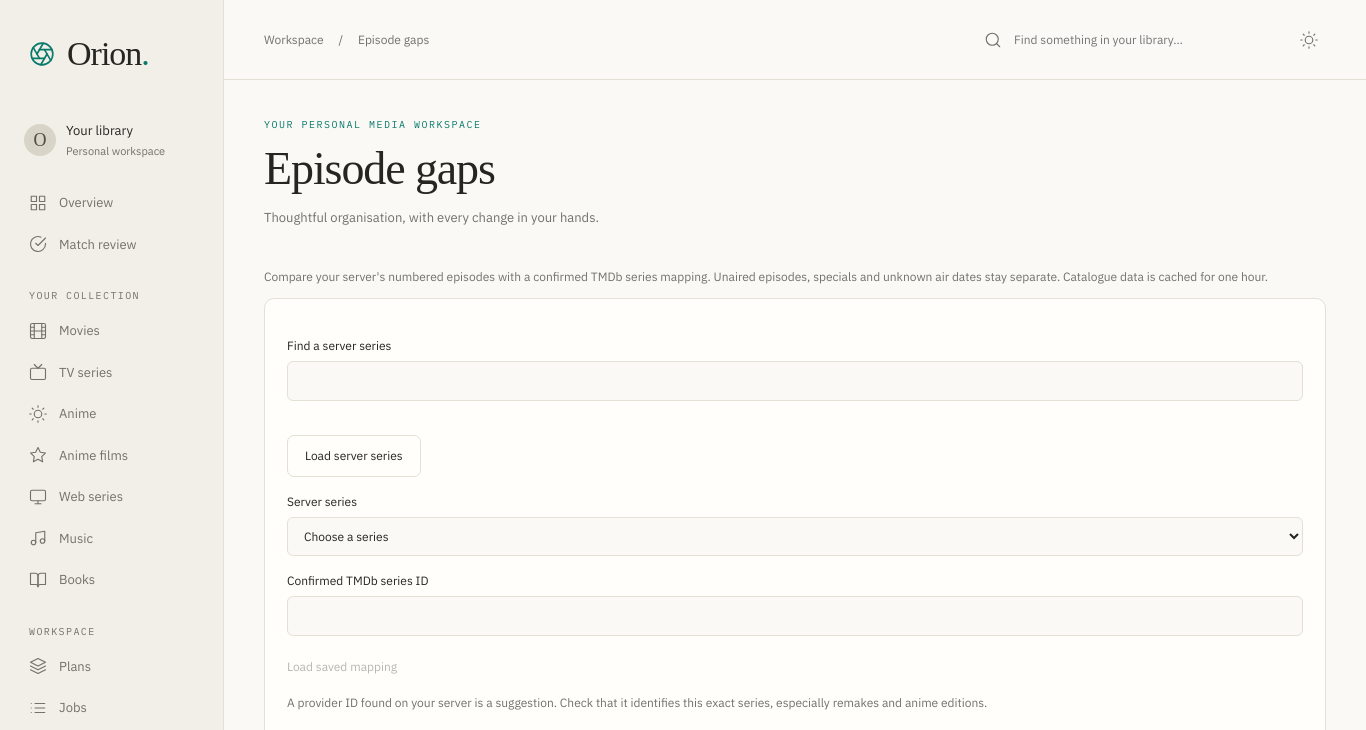
Test case: ready gap reports show actual episode title, air date and status
Click the button "Load server series" at (354, 456), box 287,435 -> 421,477
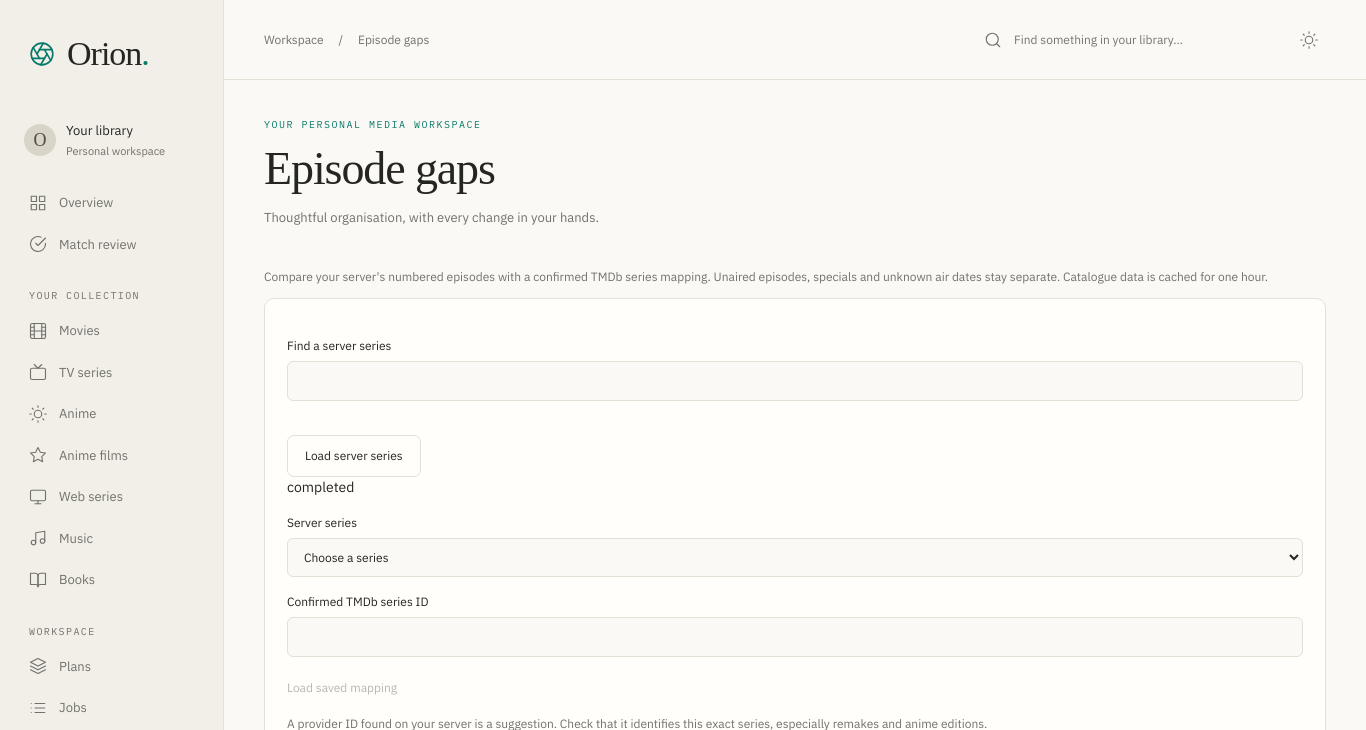
Select "Example show" in the dropdown labelled "Server series" at (795, 558), box 287,538 -> 1303,577
(page scrolled)
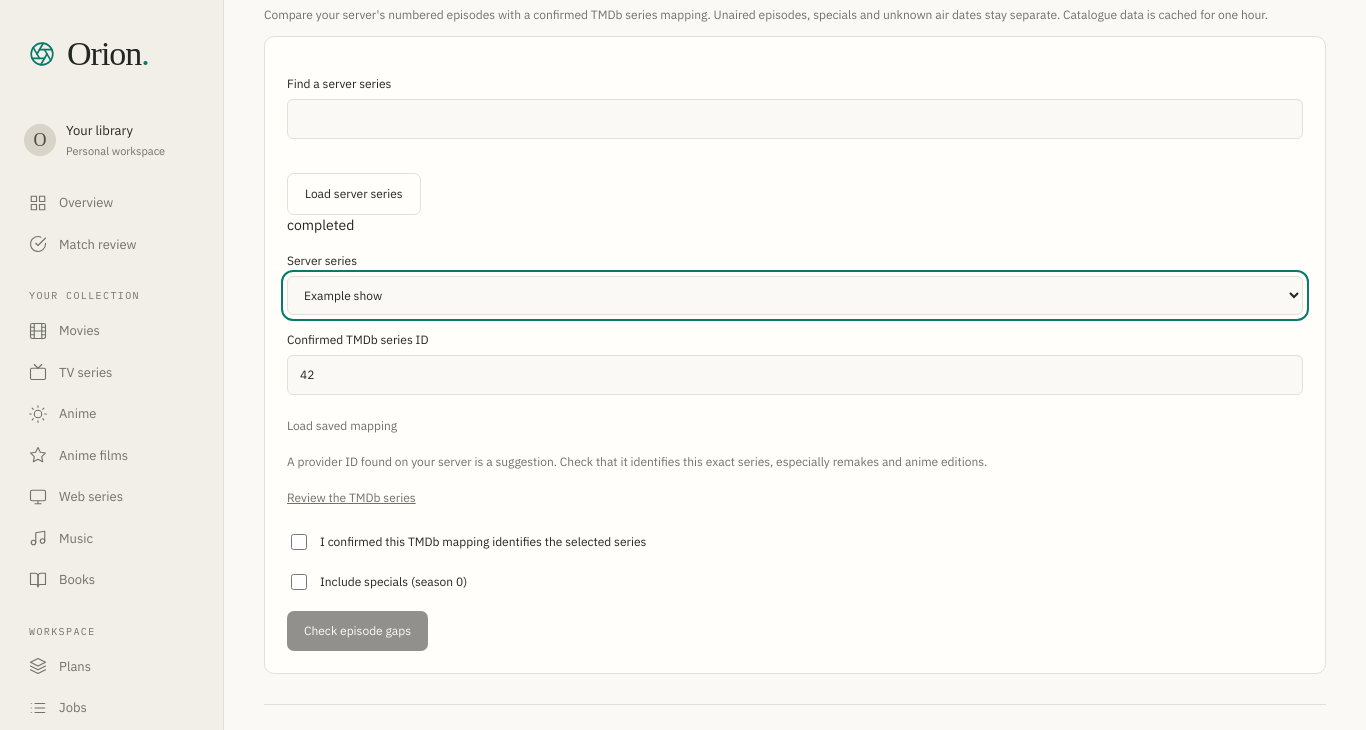
Click the checkbox labelled "I confirmed this TMDb mapping identifies the selected series" at (299, 542), box 291,534 -> 307,550
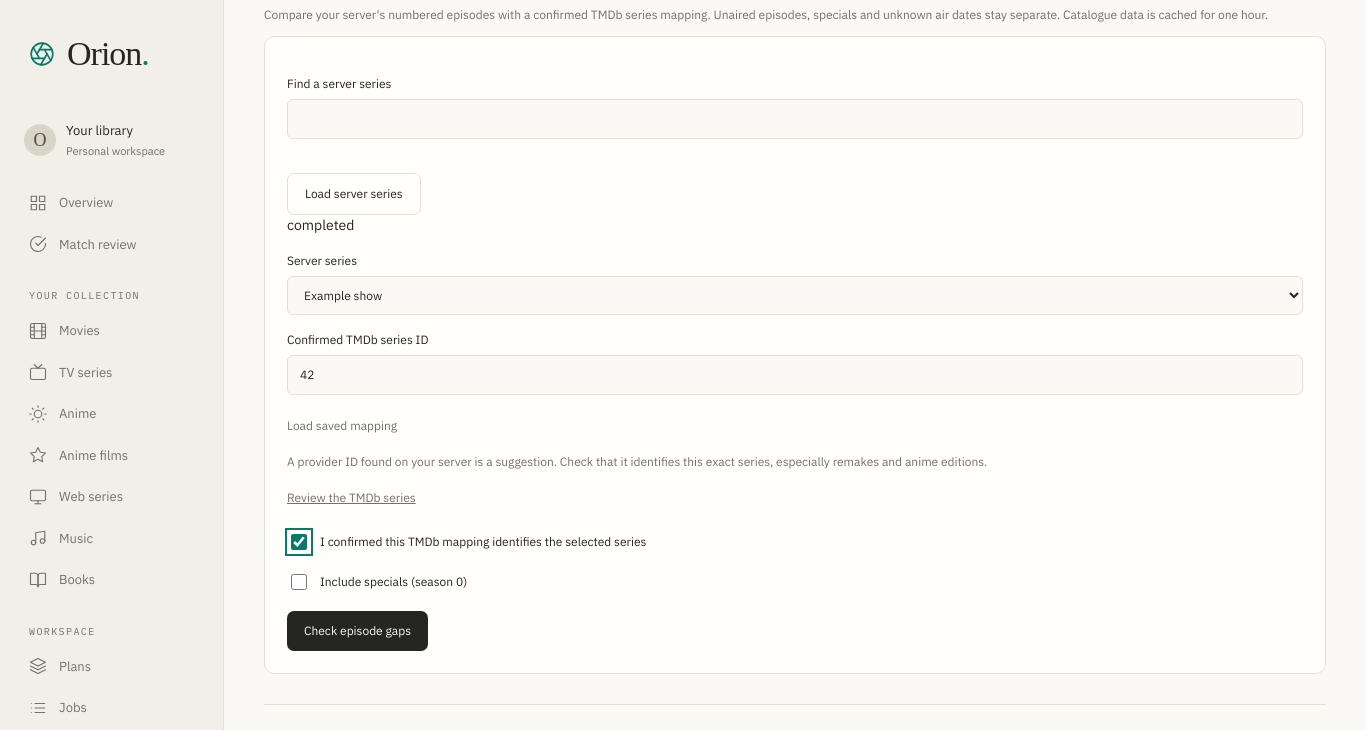
Click the button "Check episode gaps" at (358, 631), box 287,611 -> 428,651
(page scrolled)
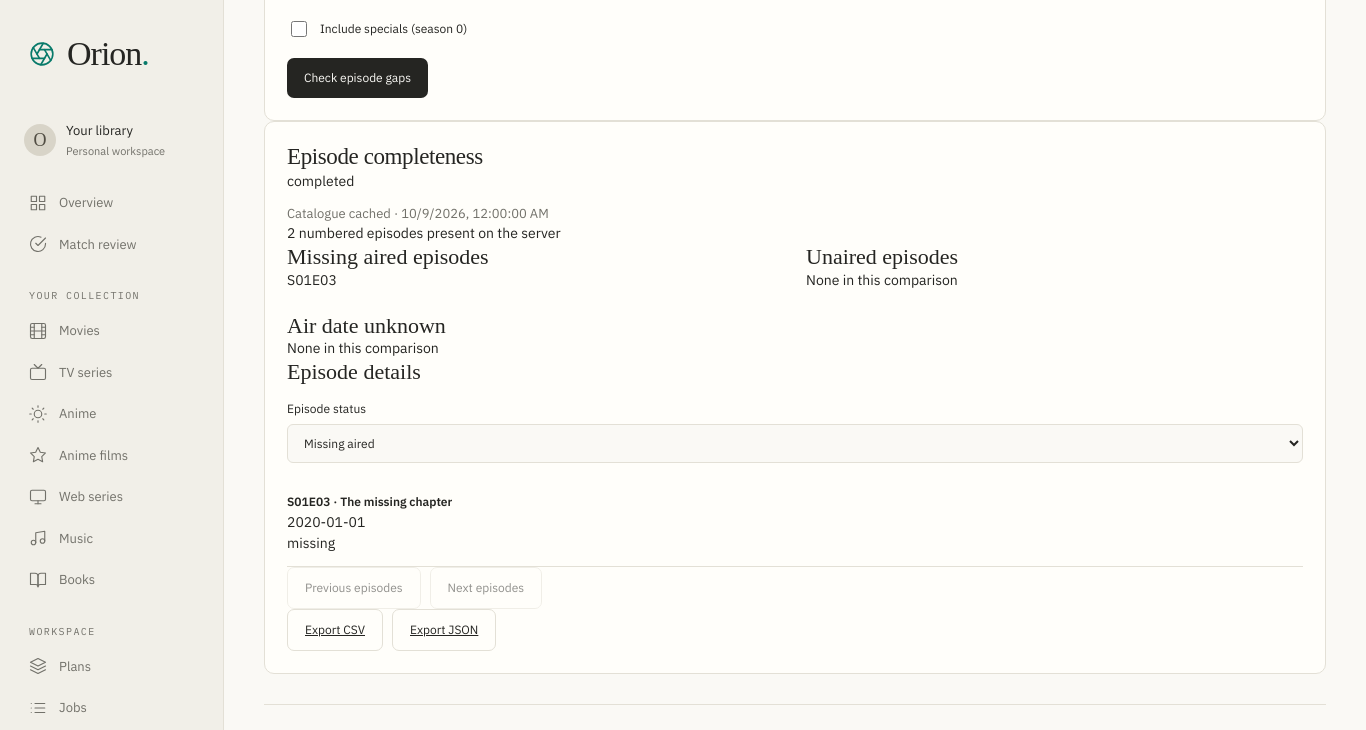
Expected: the text "S01E03 · The missing chapter" is shown, 287,494 -> 452,509
Expected: the text "2020-01-01" is shown, 287,513 -> 365,531
